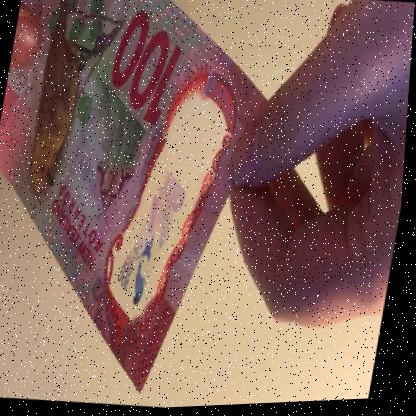100B: (112, 165, 194, 312)
